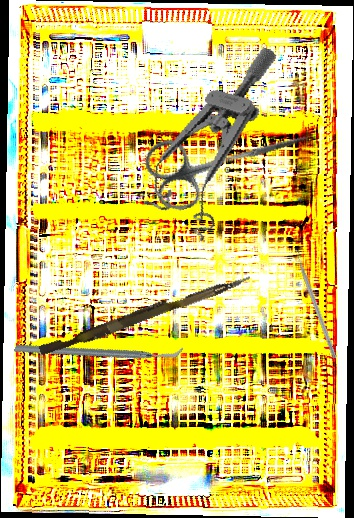Chopper: (12, 280, 185, 419), (292, 246, 344, 359)
Iris Scissors: (140, 99, 319, 217)
Pusher: (38, 266, 252, 362)
Speculum: (137, 27, 278, 247)
